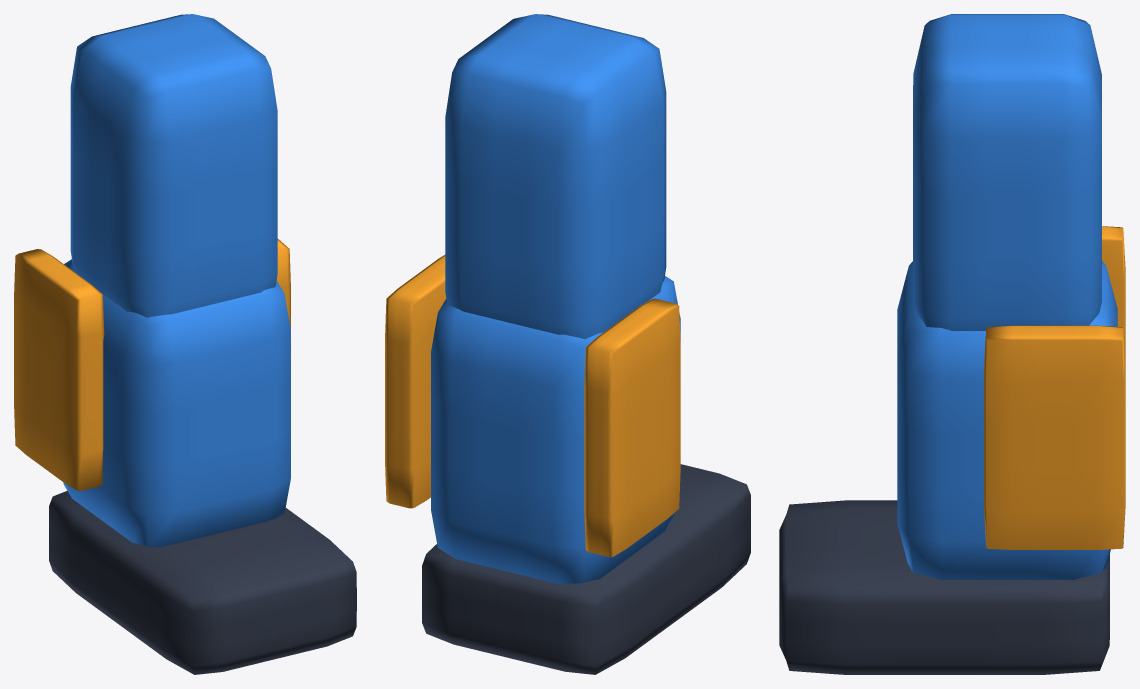
The model's file is leg_quantum.obj.
3 renders of one model, left to right at view 1: azimuth 30°, elevation 25°; view 2: azimuth 150°, elevation 25°; view 3: azimuth 270°, elevation 25°, orthographic. The views are drawn at different scales.
Size of the model in its own units: 0.35 by 0.84 by 0.44.
